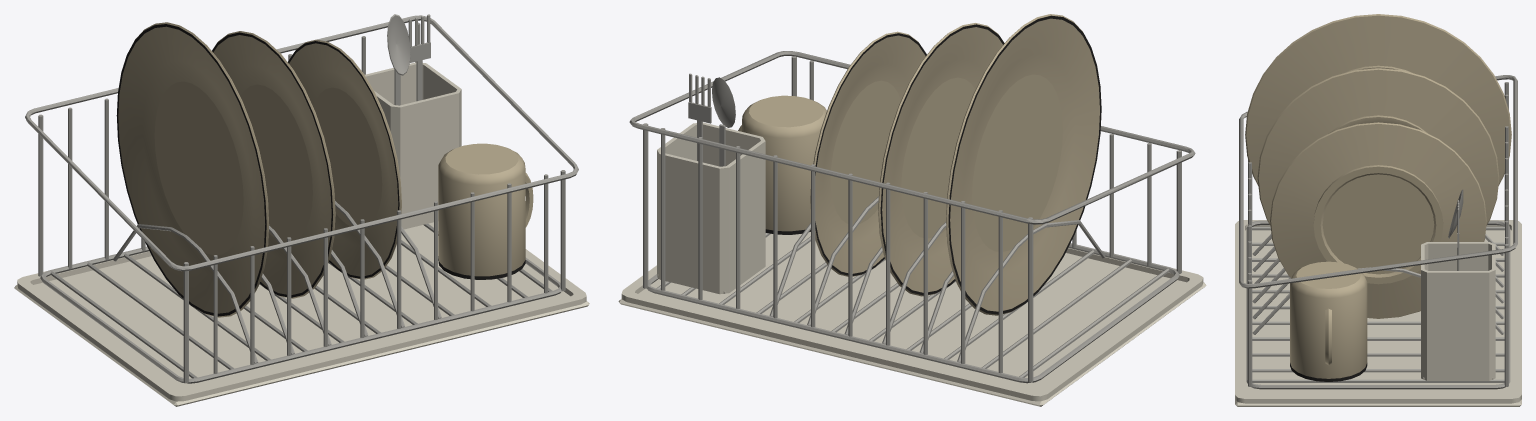
The model's file is dish-rack-9fd79da2ab6d.glb.
3 renders of one model, left to right at view 1: azimuth 30°, elevation 25°; view 2: azimuth 150°, elevation 25°; view 3: azimuth 270°, elevation 25°, orthographic. The views are drawn at different scales.
Parts seen in each view (by area): view 1: enamel-beige, enamel, brushed, enamel-black; view 2: enamel-beige, enamel, brushed, enamel-black; view 3: enamel-beige, enamel, brushed, enamel-black.
Boxes of the visible parts, left/top/right/bottom form: enamel-beige: left=118, top=22, right=533, bottom=317; enamel: left=14, top=62, right=589, bottom=406; brushed: left=25, top=14, right=578, bottom=383; enamel-black: left=116, top=24, right=525, bottom=316; enamel-beige: left=738, top=14, right=1099, bottom=315; enamel: left=618, top=122, right=1206, bottom=406; brushed: left=629, top=51, right=1195, bottom=383; enamel-black: left=765, top=15, right=1101, bottom=314; enamel-beige: left=1245, top=14, right=1511, bottom=378; enamel: left=1235, top=220, right=1521, bottom=406; brushed: left=1239, top=75, right=1517, bottom=389; enamel-black: left=1290, top=363, right=1367, bottom=381.
Size of the model in its own units: 0.34 by 0.228 by 0.23.
